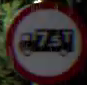Heavy Vehicles: (4, 0, 86, 82)
